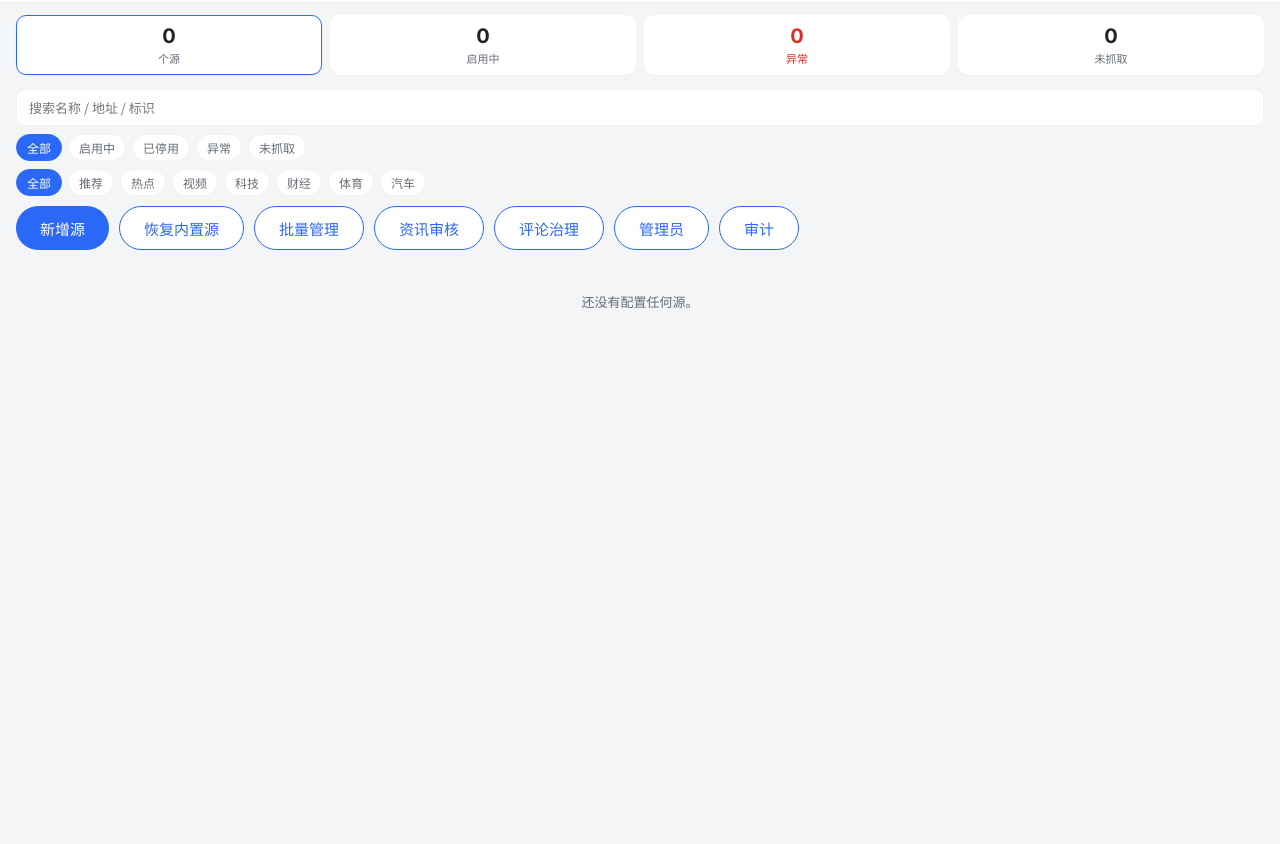
Test case: views/AdminSources › 新增表单拦截非法地址，不发请求
Click the button "新增源" at [62, 228], box [16, 206, 109, 250]
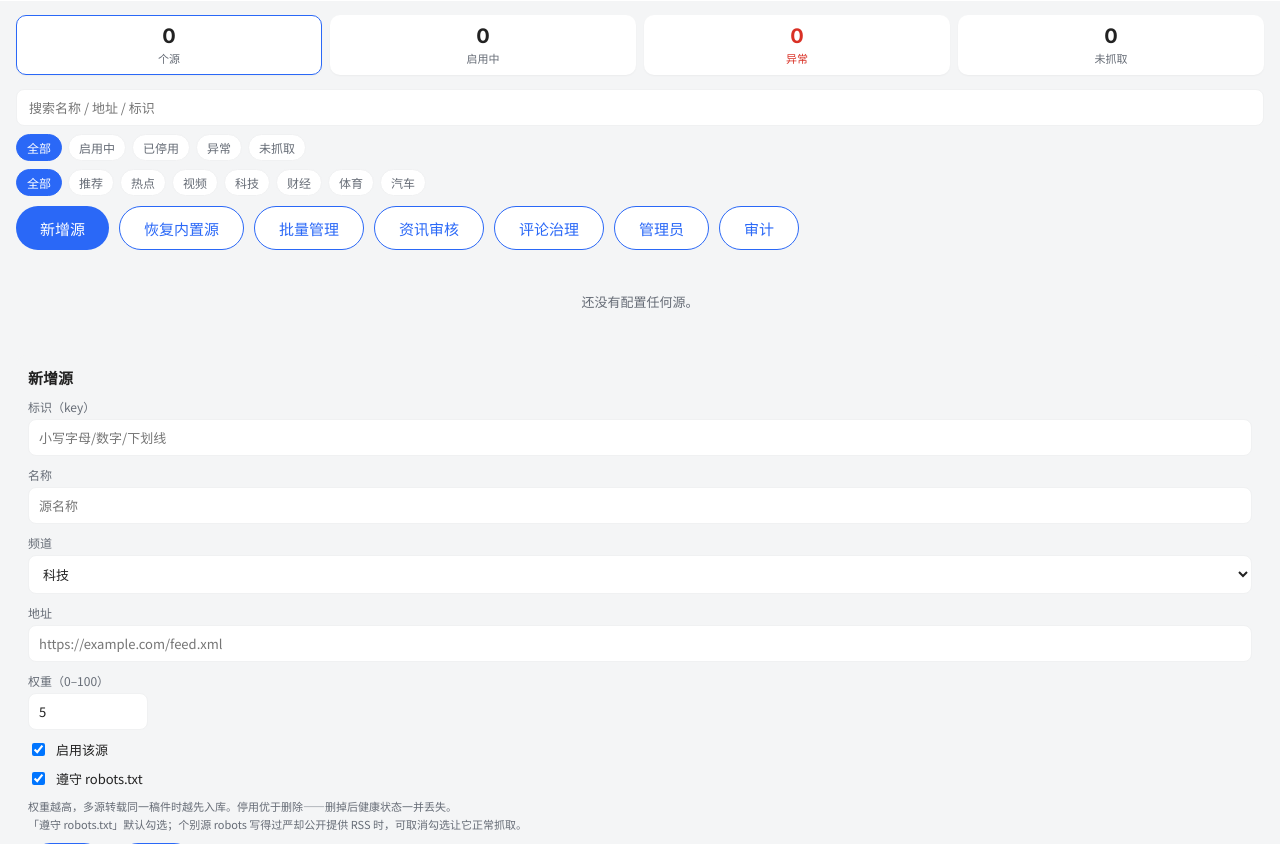
Type "demo_src" into the field labelled "标识（key）" at [640, 438], box [28, 419, 1252, 456]
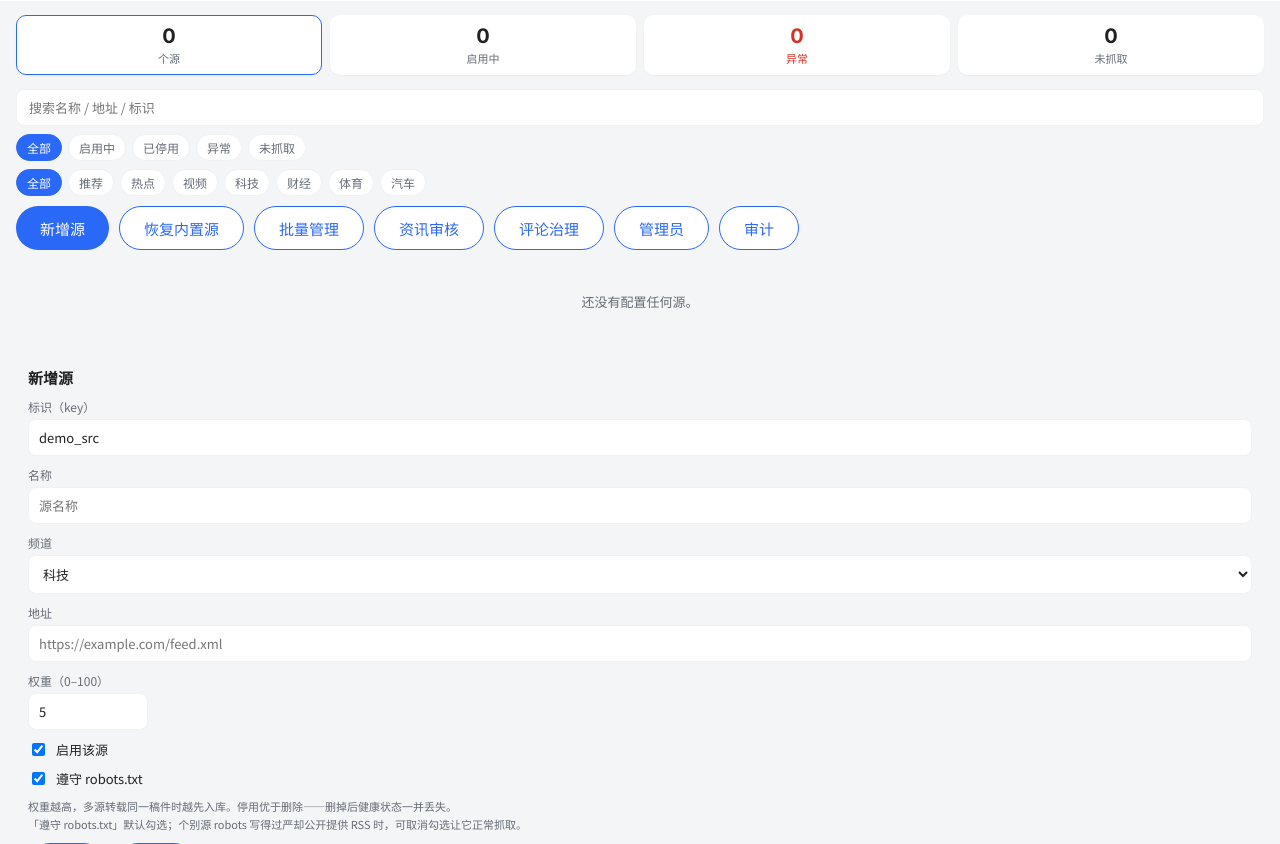
Type "演示源" into the field labelled "名称" at [640, 506], box [28, 487, 1252, 524]
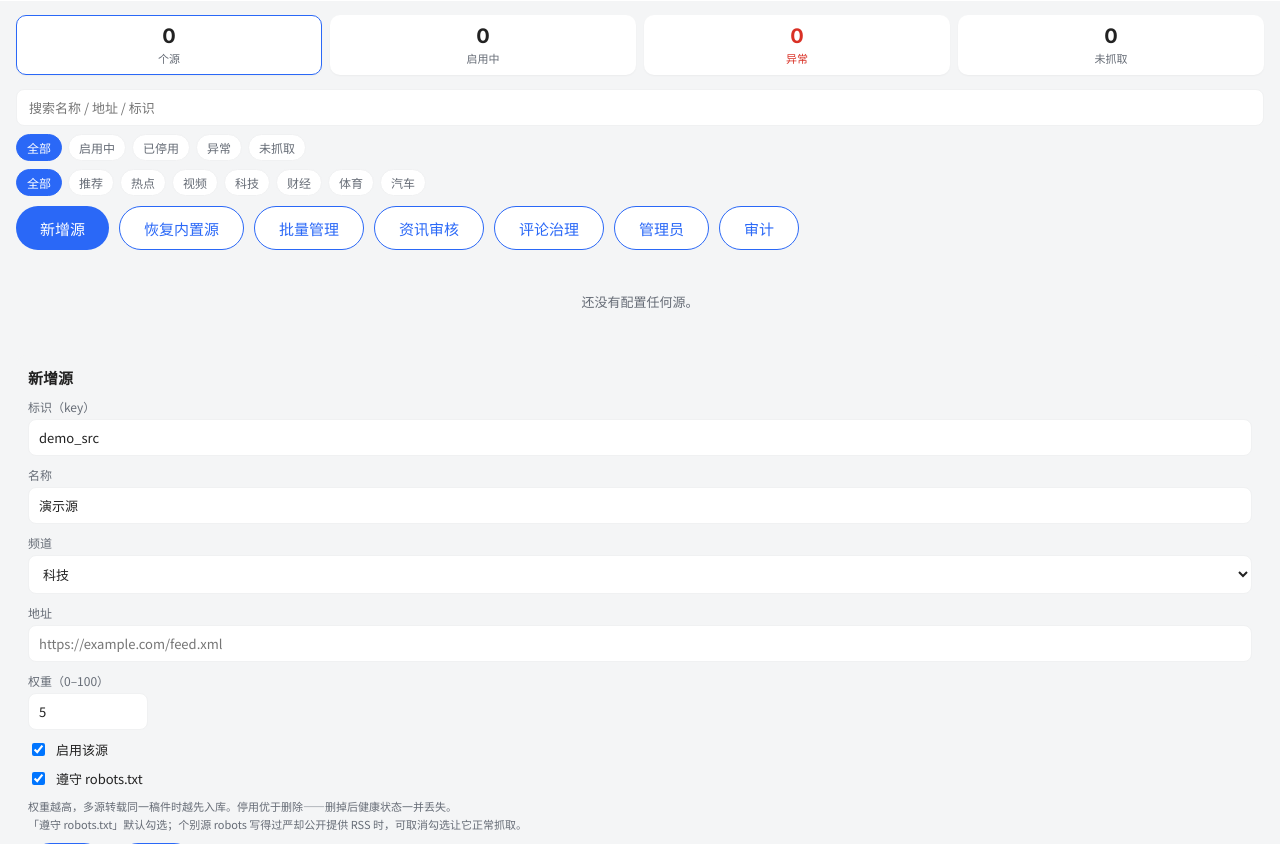
Type "ftp://example.com/f.xml" into the field labelled "地址" at [640, 644], box [28, 625, 1252, 662]
(page scrolled)
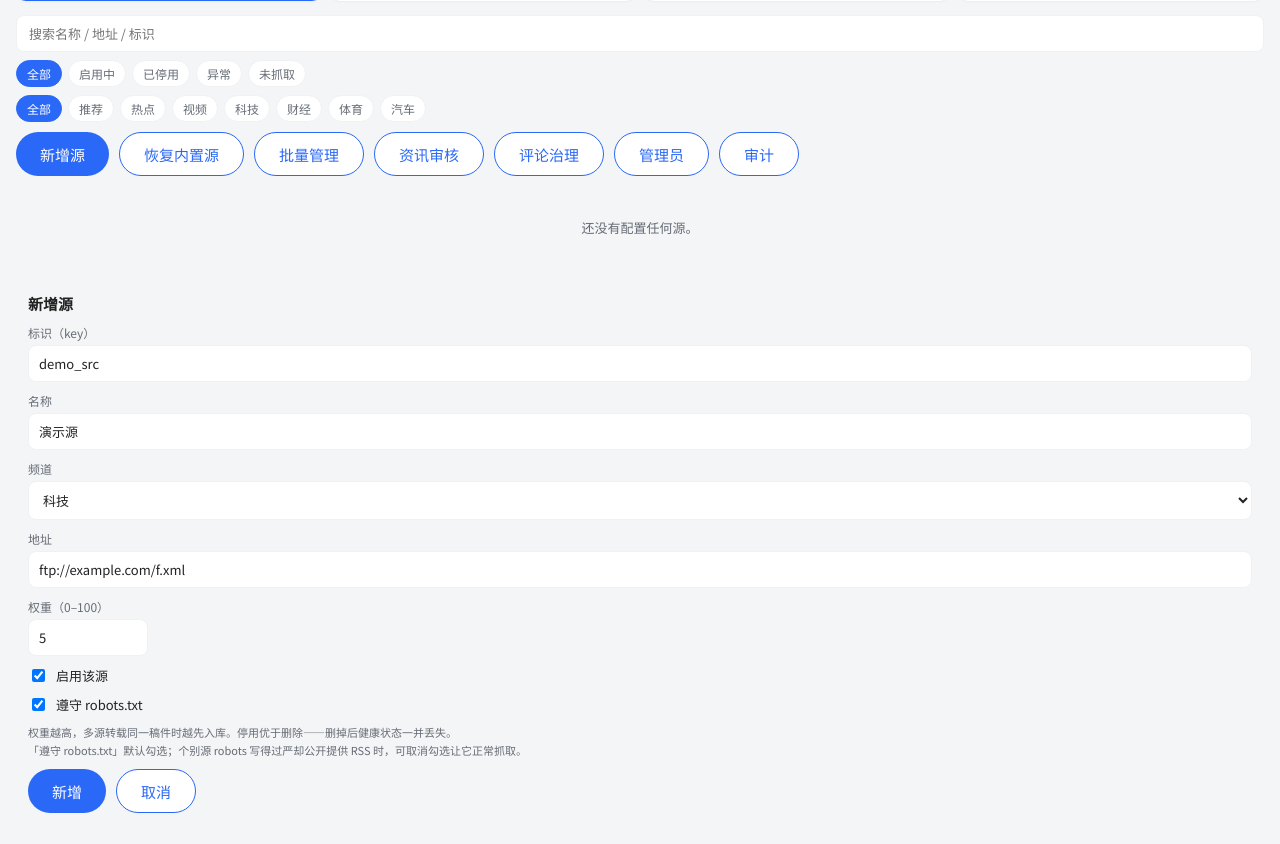
// jsdom 不实现「点提交按钮触发表单提交」，直接派发 submit 事件
Submit the form with class "admin__form--new"
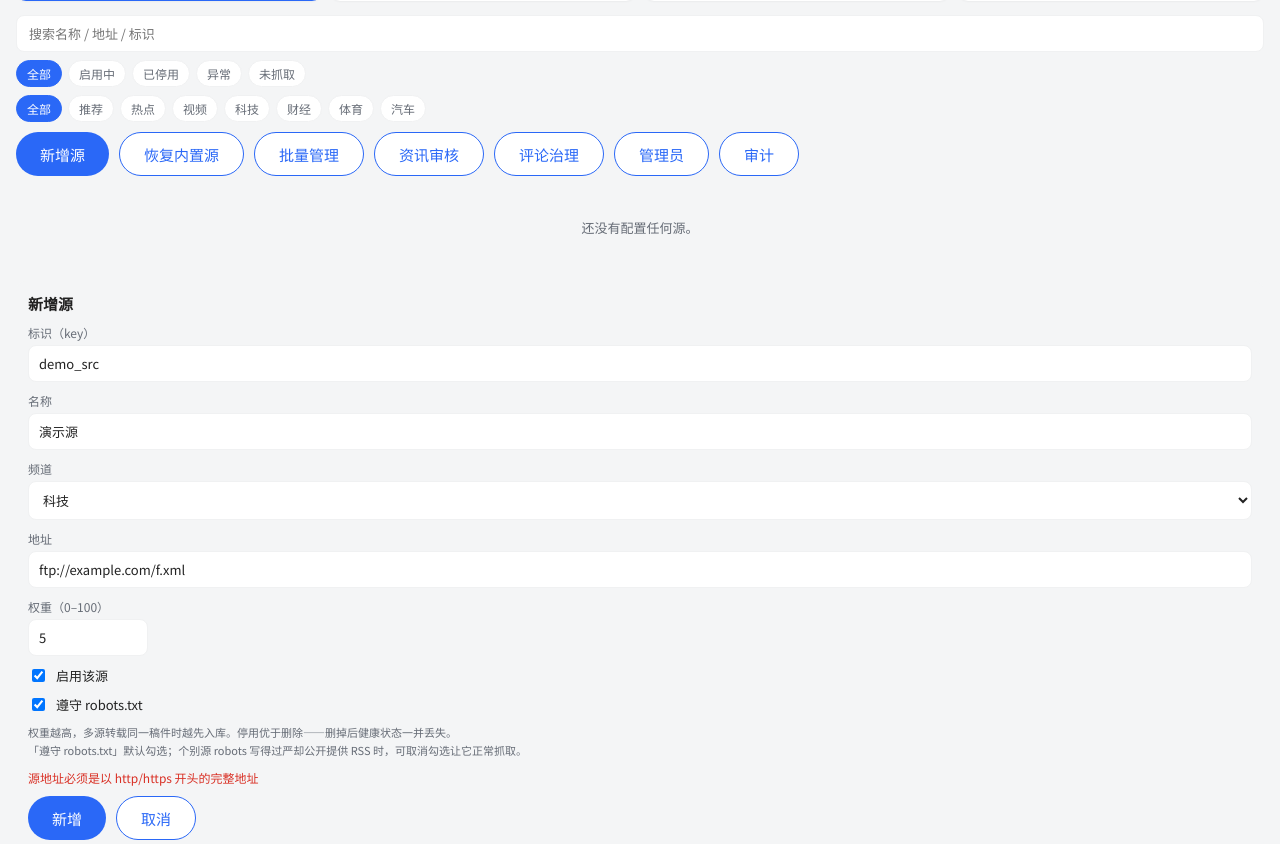
expect the text "源地址必须是以 http/https 开头的完整地址" is shown: met, box [28, 769, 259, 786]
